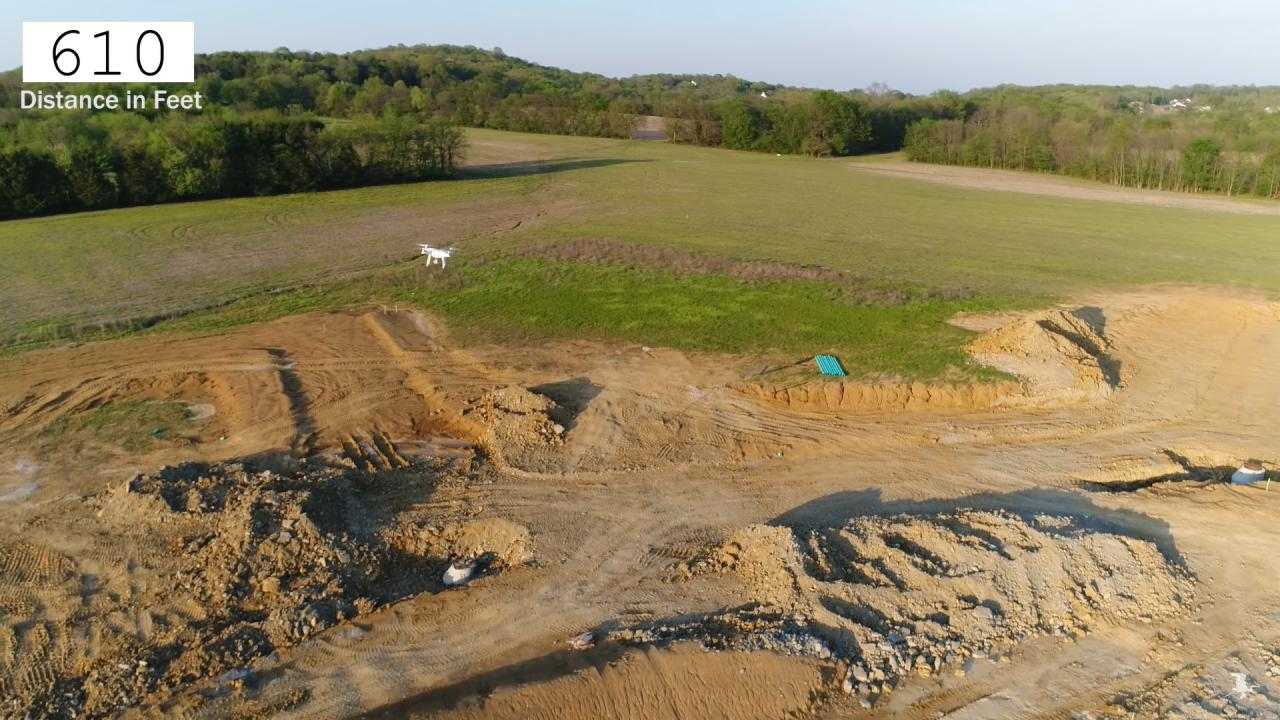Drone: (405, 233, 468, 279)
